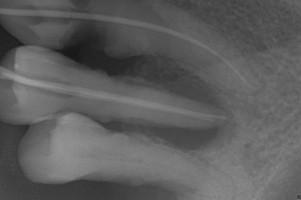Dental Caries: (125, 57, 232, 151)
